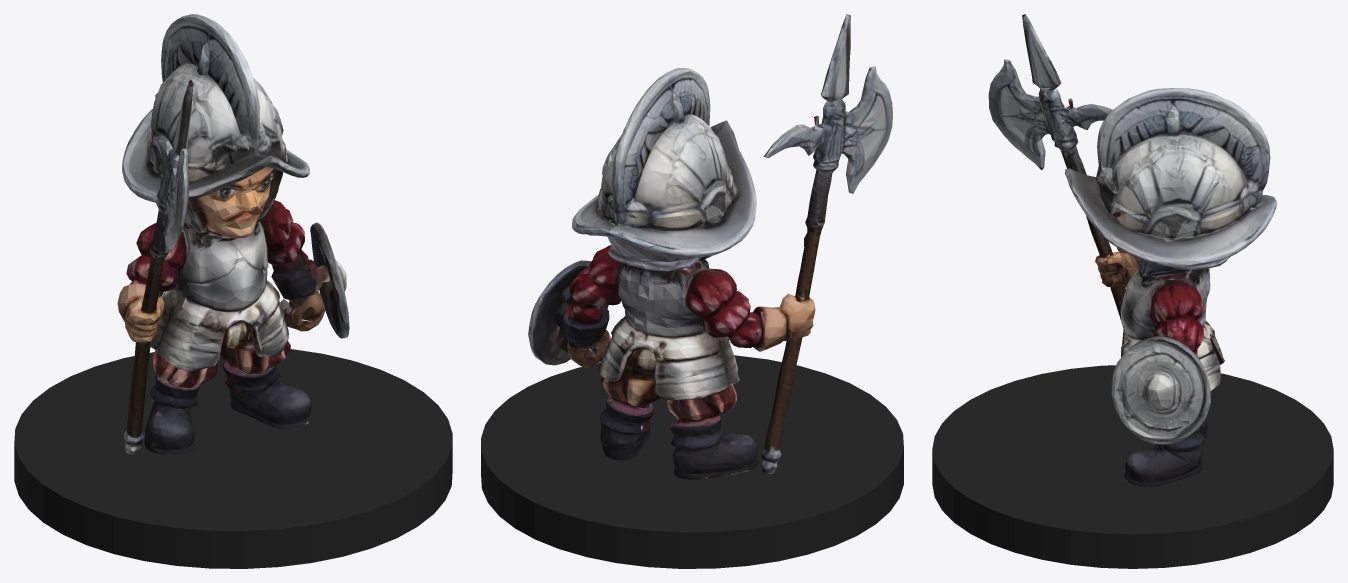
Rendered from freeguild-steelhelm.glb.
The picture shows the model from 3 angles, left to right: view 1: azimuth 30°, elevation 25°; view 2: azimuth 150°, elevation 25°; view 3: azimuth 270°, elevation 25°; orthographic projection. The views are drawn at different scales.
Parts seen in each view (by area): view 1: base, figure; view 2: figure, base; view 3: base, figure.
Boxes of the visible parts, box(x1,y1,x2,y2) form: base: box(14, 349, 452, 568); figure: box(117, 14, 349, 454); figure: box(528, 14, 892, 479); base: box(481, 355, 903, 568); base: box(932, 365, 1333, 568); figure: box(988, 14, 1277, 486).
Size of the model in its own units: 1.26 by 1.47 by 1.26.
Materials: 2 (1 with a texture image).
